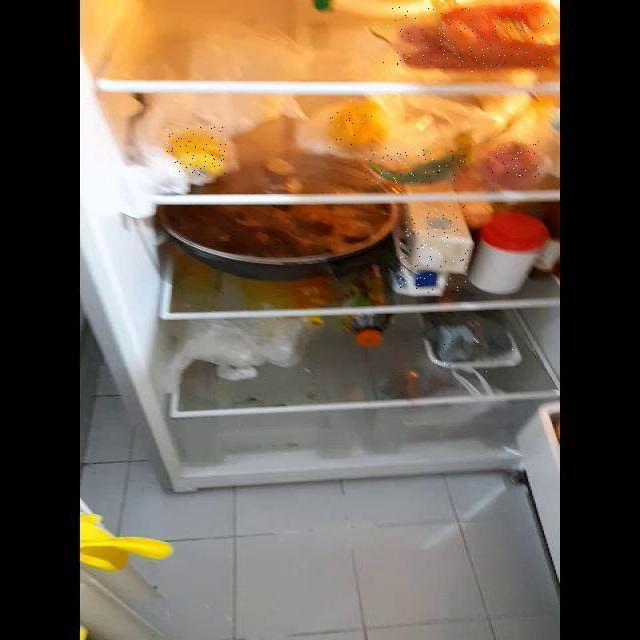Brocoli: (428, 322, 521, 372)
Limón: (167, 127, 227, 175), (328, 107, 387, 150)
Zanahoria: (383, 7, 551, 72)
green chilies: (365, 148, 465, 183)
milk: (399, 203, 469, 293)
tomato paste: (483, 140, 541, 179)
